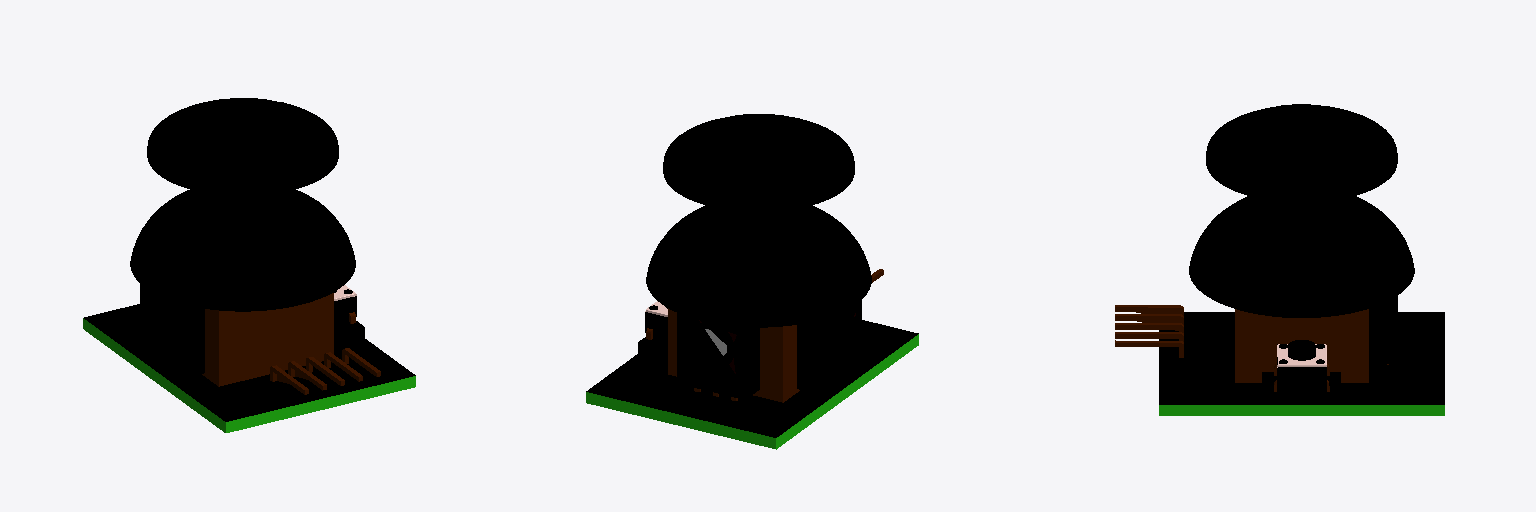
Rendered from joystick.obj.
3 renders of one model, left to right at view 1: azimuth 30°, elevation 25°; view 2: azimuth 150°, elevation 25°; view 3: azimuth 270°, elevation 25°, orthographic.
Parts seen in each view (by area): view 1: Dual_axis_xy_joystick_module; view 2: Dual_axis_xy_joystick_module; view 3: Dual_axis_xy_joystick_module.
Part boxes in pixels (left/top/right/bottom): Dual_axis_xy_joystick_module: left=83, top=98, right=415, bottom=432; Dual_axis_xy_joystick_module: left=586, top=114, right=918, bottom=449; Dual_axis_xy_joystick_module: left=1115, top=104, right=1444, bottom=415.
Bounding box in the file's own units: 2.05 × 2.55 × 2.93.